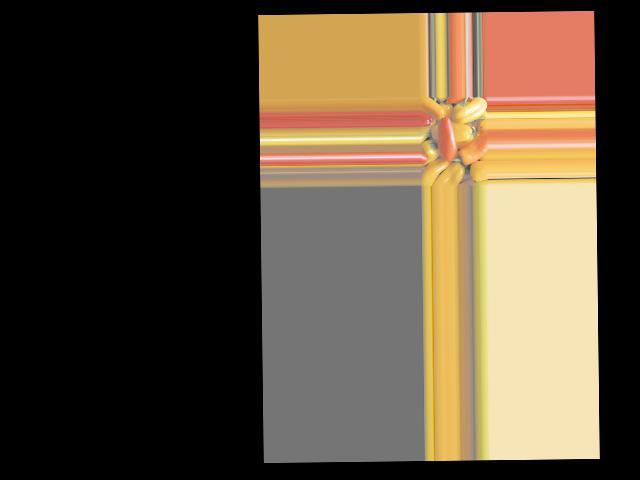bell_pepper: (455, 96, 486, 125)
